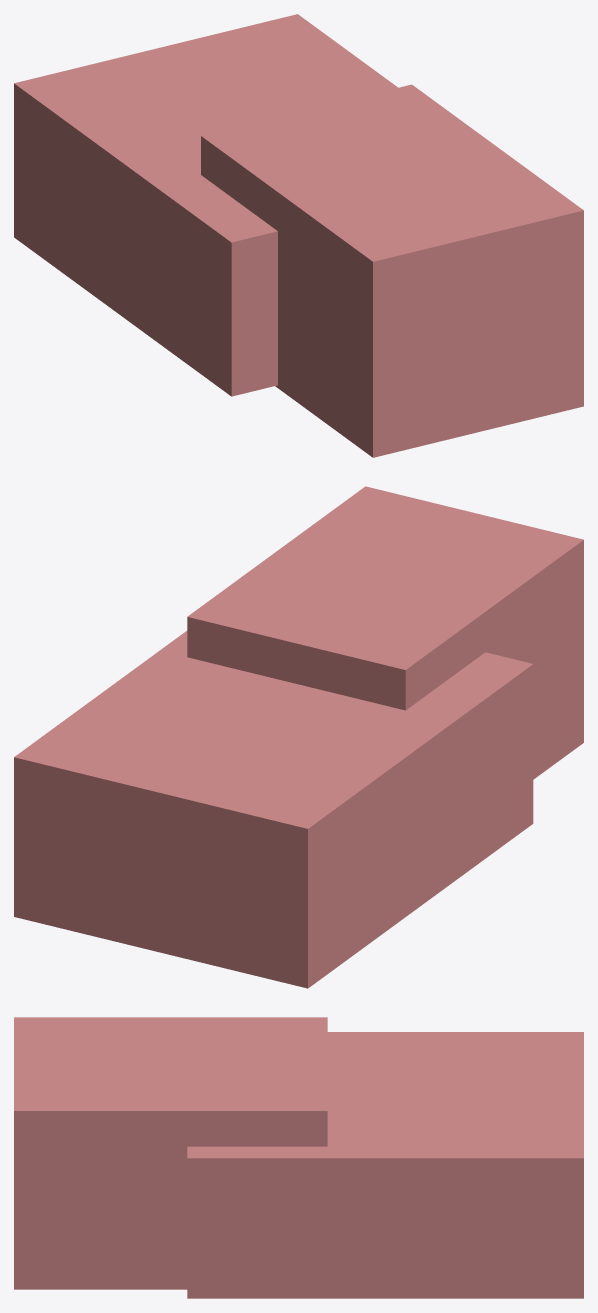
File: 199509_occ.glb
3 views of the same model, one above another, from view 1: azimuth 30°, elevation 25°; view 2: azimuth 150°, elevation 25°; view 3: azimuth 270°, elevation 25° (orthographic). The views are drawn at different scales.
Visible parts, largest first — view 1: world; view 2: world; view 3: world.
Part boxes in pixels (<box>): world: <box>14,14,583,457</box>; world: <box>14,486,583,988</box>; world: <box>14,1017,583,1298</box>.
Size of the model in its own units: 4.16 by 2.75 by 7.94.
